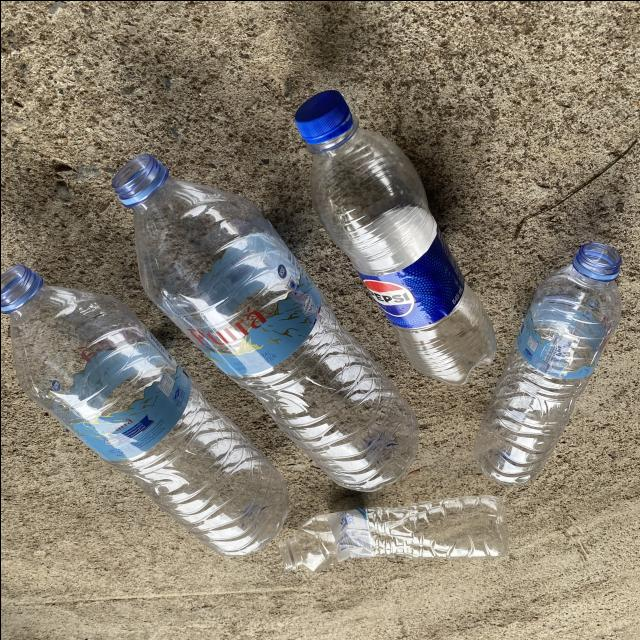plastik: (111, 154, 418, 490), (0, 264, 287, 555), (294, 90, 495, 384), (472, 242, 620, 483), (278, 494, 506, 569)
